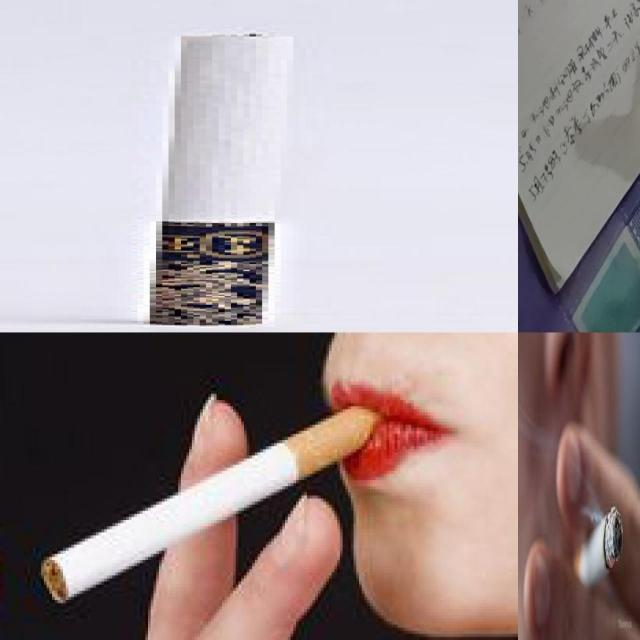smoke: (40, 401, 388, 606), (150, 31, 268, 324), (572, 506, 624, 594)
